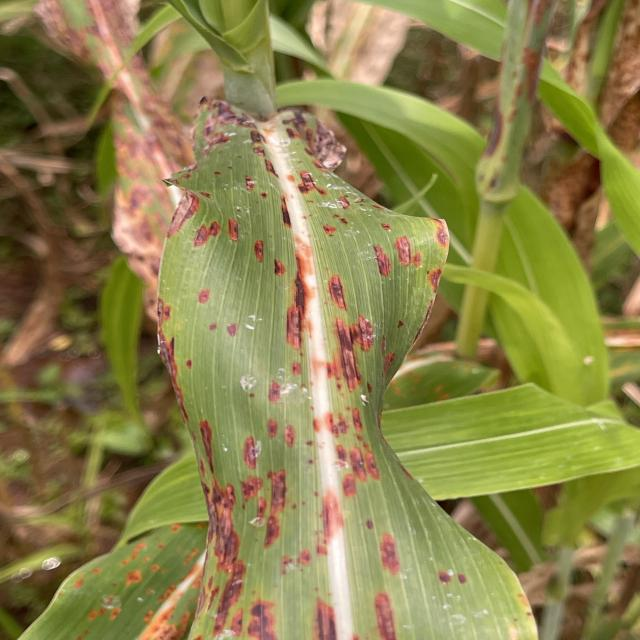millet_healthy: (277, 60, 622, 388), (355, 0, 640, 257), (375, 352, 639, 535)
millet_rust: (159, 95, 535, 640), (38, 3, 193, 310), (25, 443, 250, 640)
